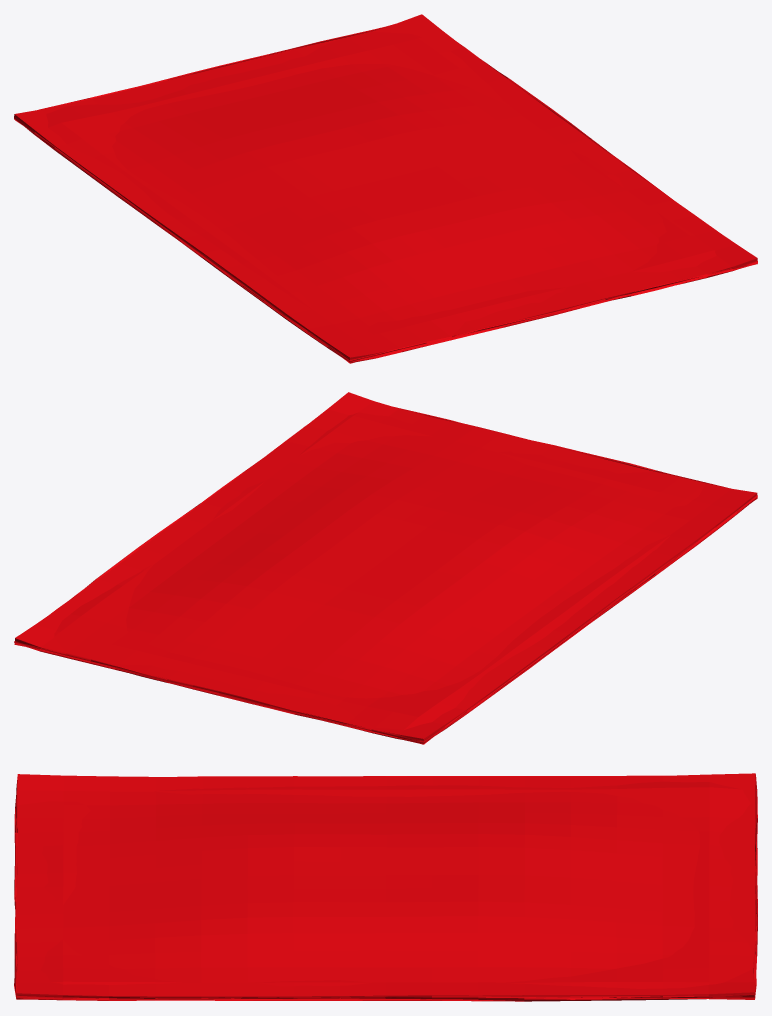
Rendered from CasaPinkmanTapete 1.fbx.
3 renders of one model, top to bottom at view 1: azimuth 30°, elevation 25°; view 2: azimuth 150°, elevation 25°; view 3: azimuth 270°, elevation 25°, orthographic. The views are drawn at different scales.
Parts seen in each view (by area): view 1: Cube.036; view 2: Cube.036; view 3: Cube.036.
Part boxes in pixels (bbox=[...]): Cube.036: bbox=[14, 14, 757, 363]; Cube.036: bbox=[14, 392, 757, 744]; Cube.036: bbox=[14, 773, 757, 1001].
Size of the model in its own units: 1195 by 42.3 by 1684.
